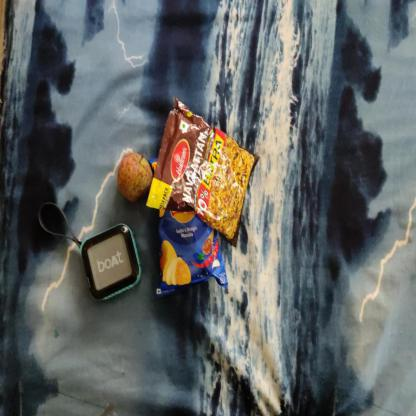indian_magic_masala: (157, 210, 227, 293)
